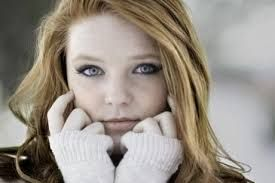no-mask: (58, 8, 175, 145)
